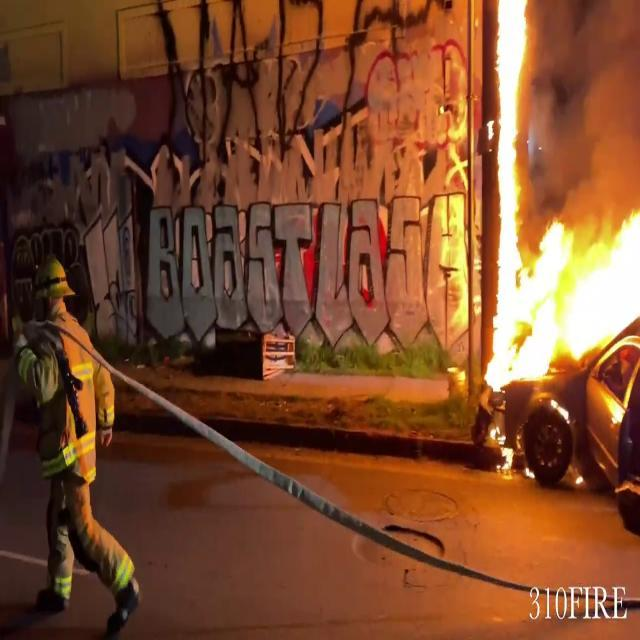Fire: (485, 194, 640, 386), (488, 0, 529, 222)
Smoke: (524, 0, 640, 204)
